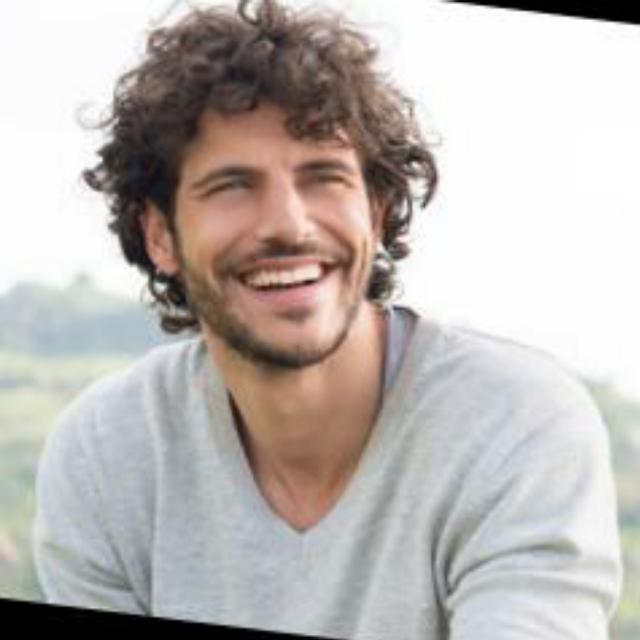Happy: (147, 74, 388, 386)
